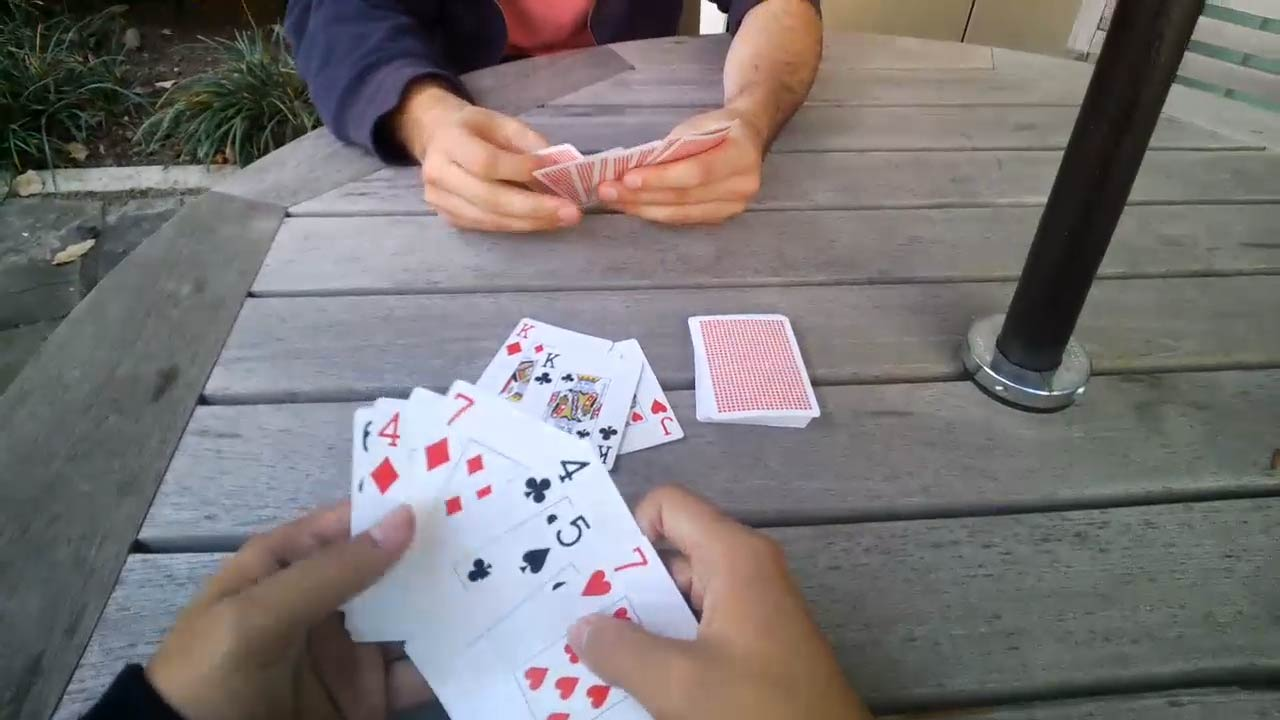hand: (560, 486, 875, 715), (149, 502, 430, 717), (418, 108, 583, 234), (601, 113, 770, 226)
